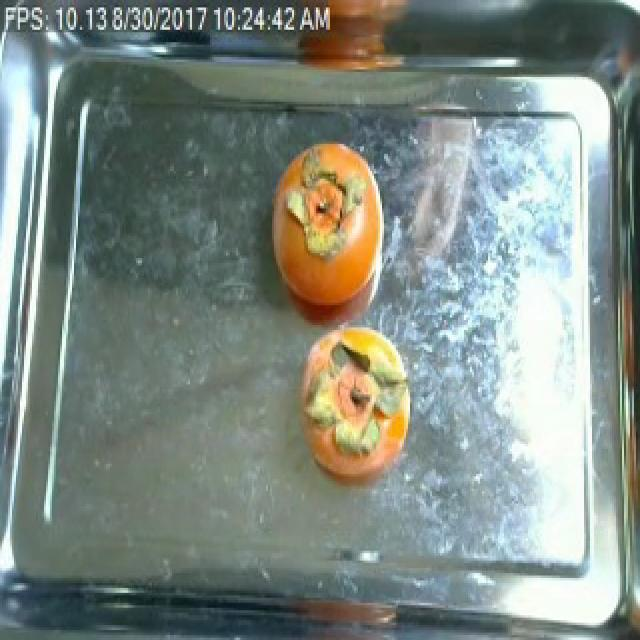Fruit: (264, 132, 386, 266)
